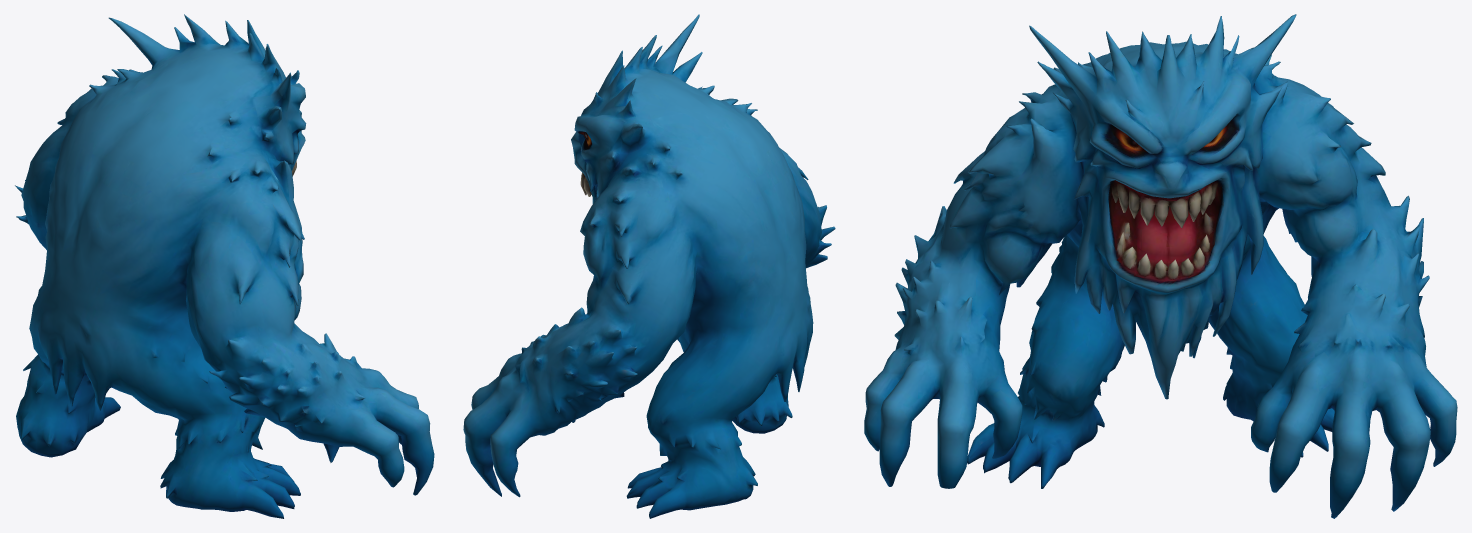
File: yeti.fbx
3 renders of one model, left to right at view 1: azimuth 30°, elevation 25°; view 2: azimuth 150°, elevation 25°; view 3: azimuth 270°, elevation 25°, orthographic. The views are drawn at different scales.
Parts seen in each view (by area): view 1: tripo_node_7885b1e5; view 2: tripo_node_7885b1e5; view 3: tripo_node_7885b1e5.
Part boxes in pixels (x1=…): tripo_node_7885b1e5: x1=15, y1=14, x2=434, y2=518; tripo_node_7885b1e5: x1=463, y1=14, x2=835, y2=518; tripo_node_7885b1e5: x1=864, y1=14, x2=1457, y2=518.
Bounding box in the file's own units: 0.5868 × 0.8568 × 0.9996.
